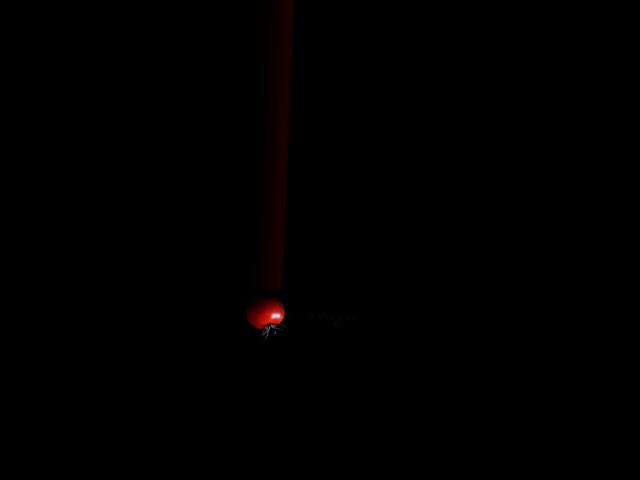tomato: (246, 294, 286, 329)
